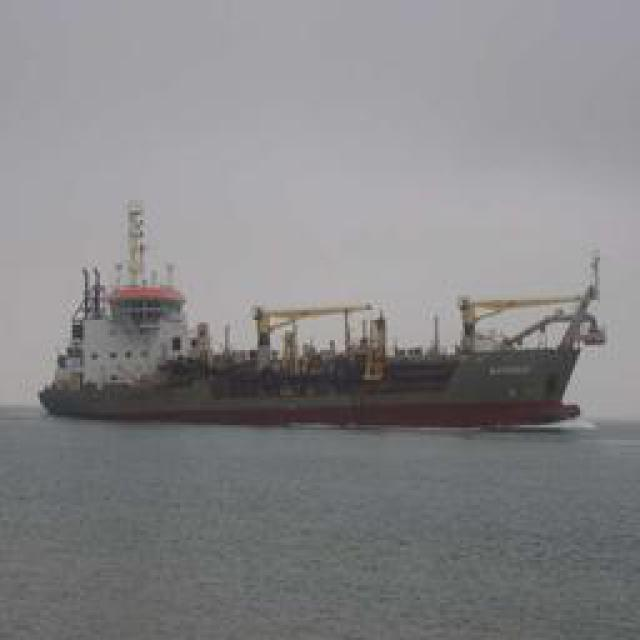Ship: (34, 198, 597, 431)
